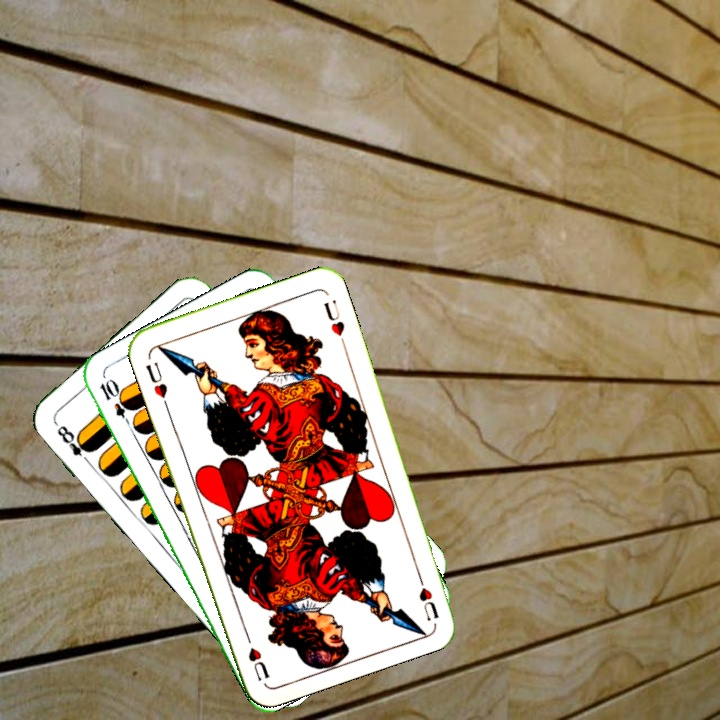E10: (96, 375, 137, 431)
E8: (51, 419, 96, 468)
HU: (412, 566, 441, 624), (141, 359, 171, 409)
